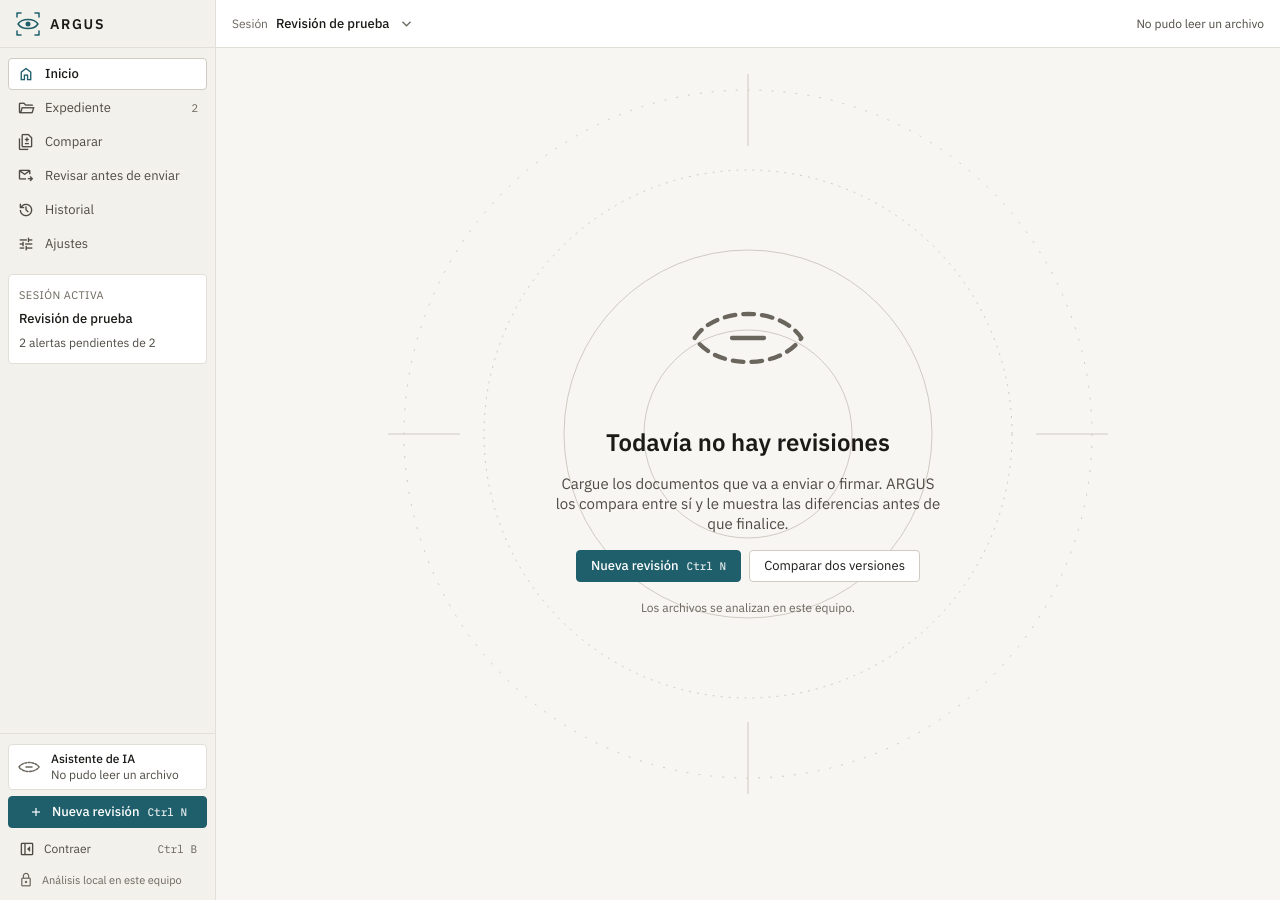
Test: Búsqueda global (Ctrl K) › Enter abre la alerta elegida y Escape cierra
Click the button "Expediente 2" at (108,108), box [8,92,207,124]
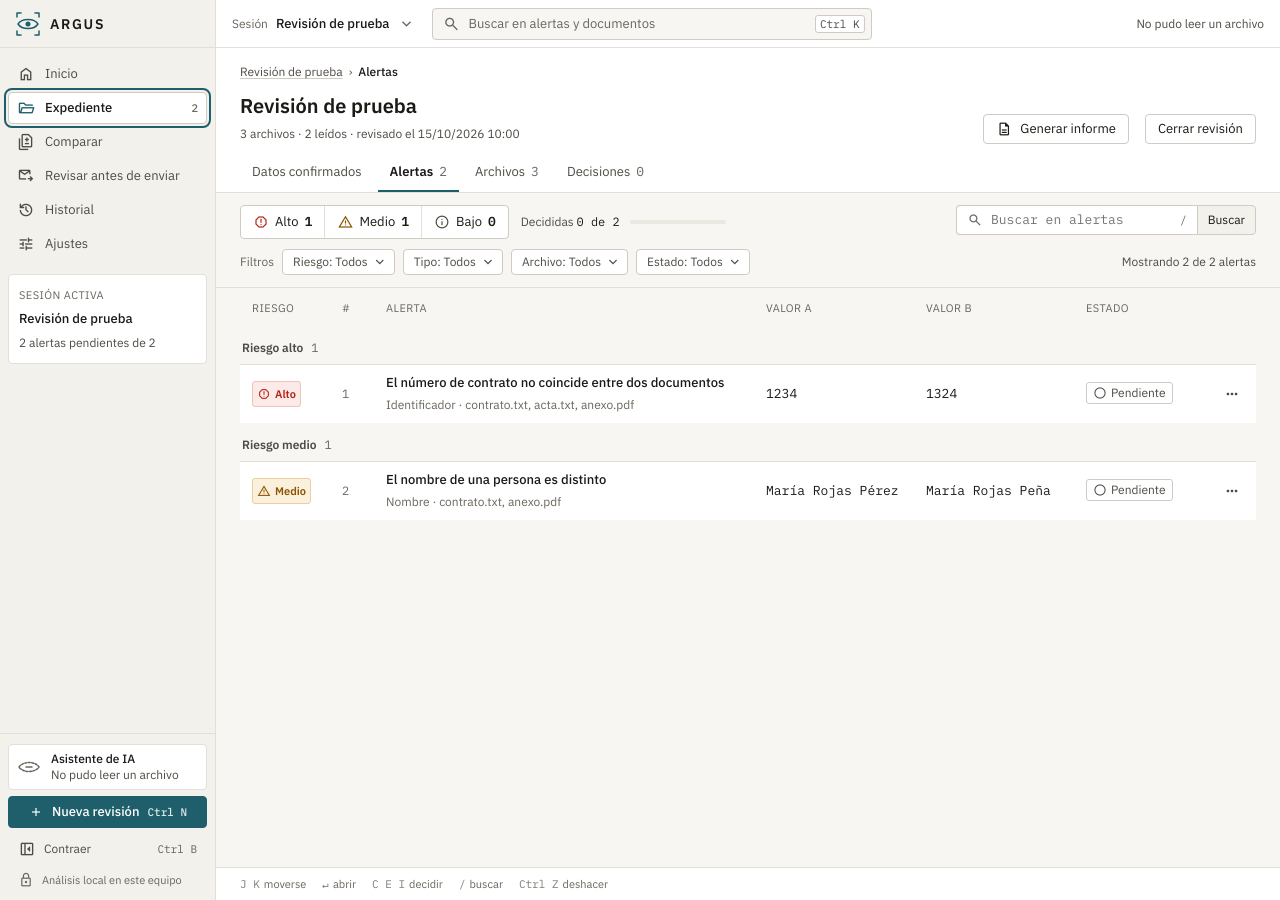
Click the button "Buscar en alertas y documentos Ctrl K" at (652,24), box [432,8,872,40]
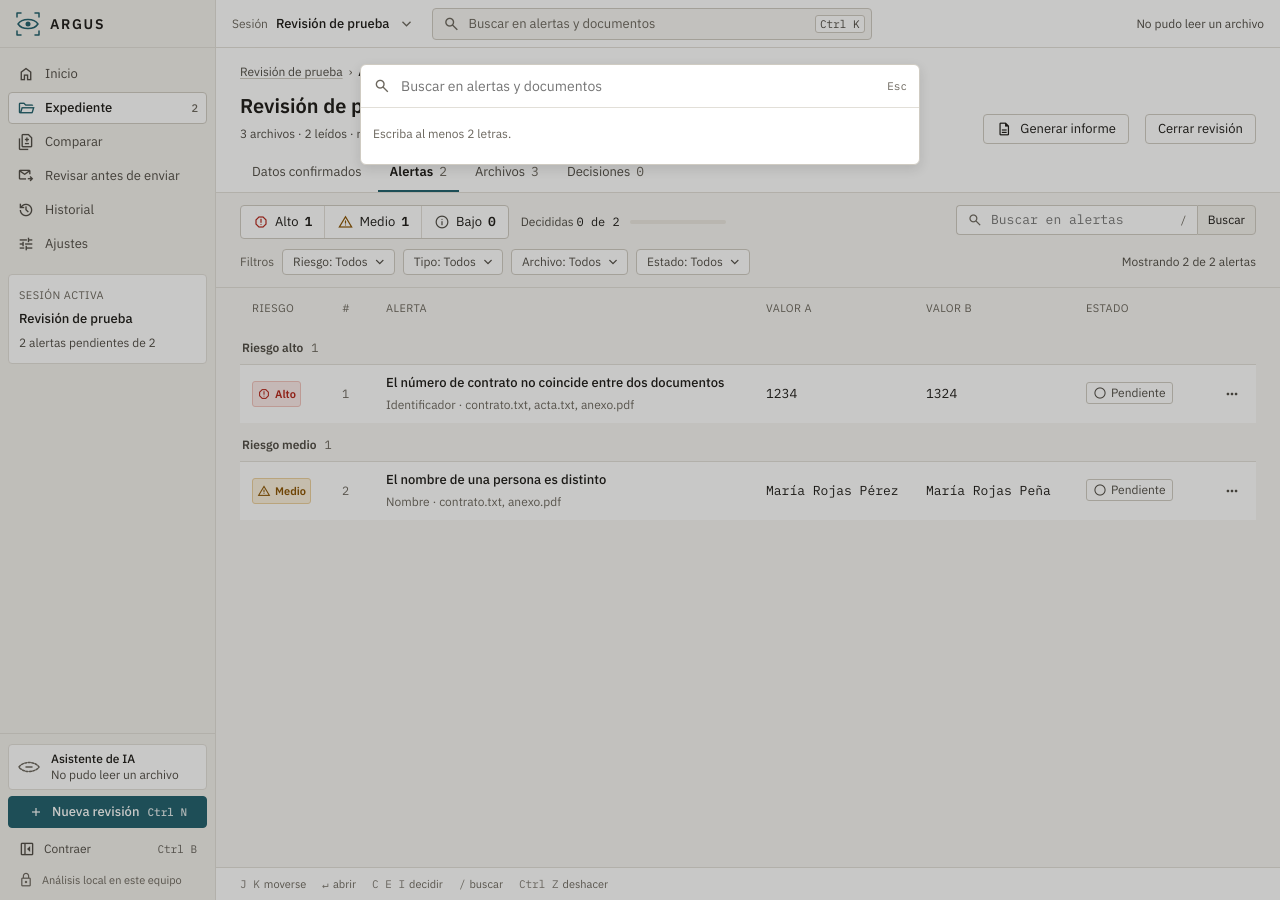
Type "peña" into the dropdown at (639,86), box [399,75,879,97]
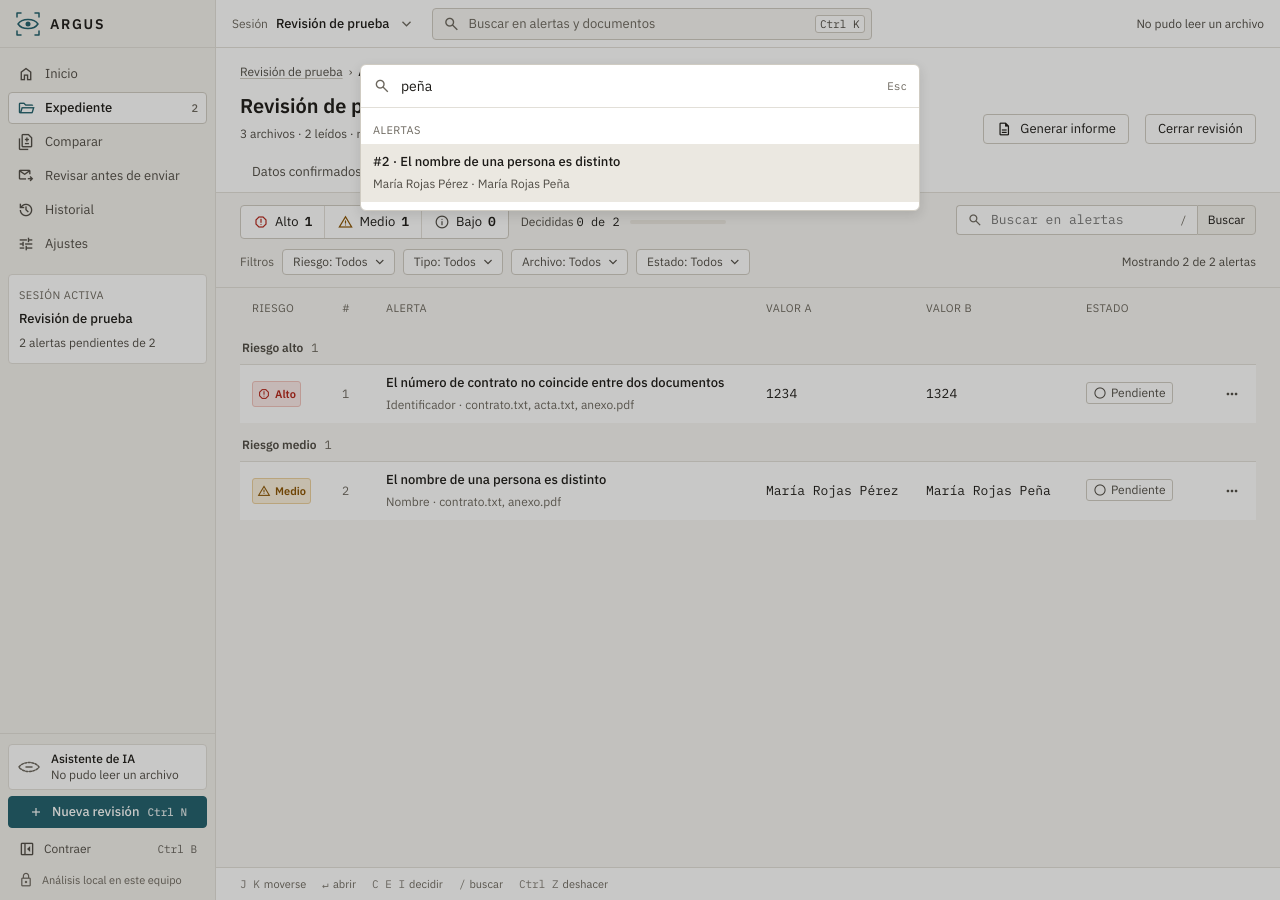
Expected: the element "Alertas" is shown, [361,112,919,202]
Press Enter
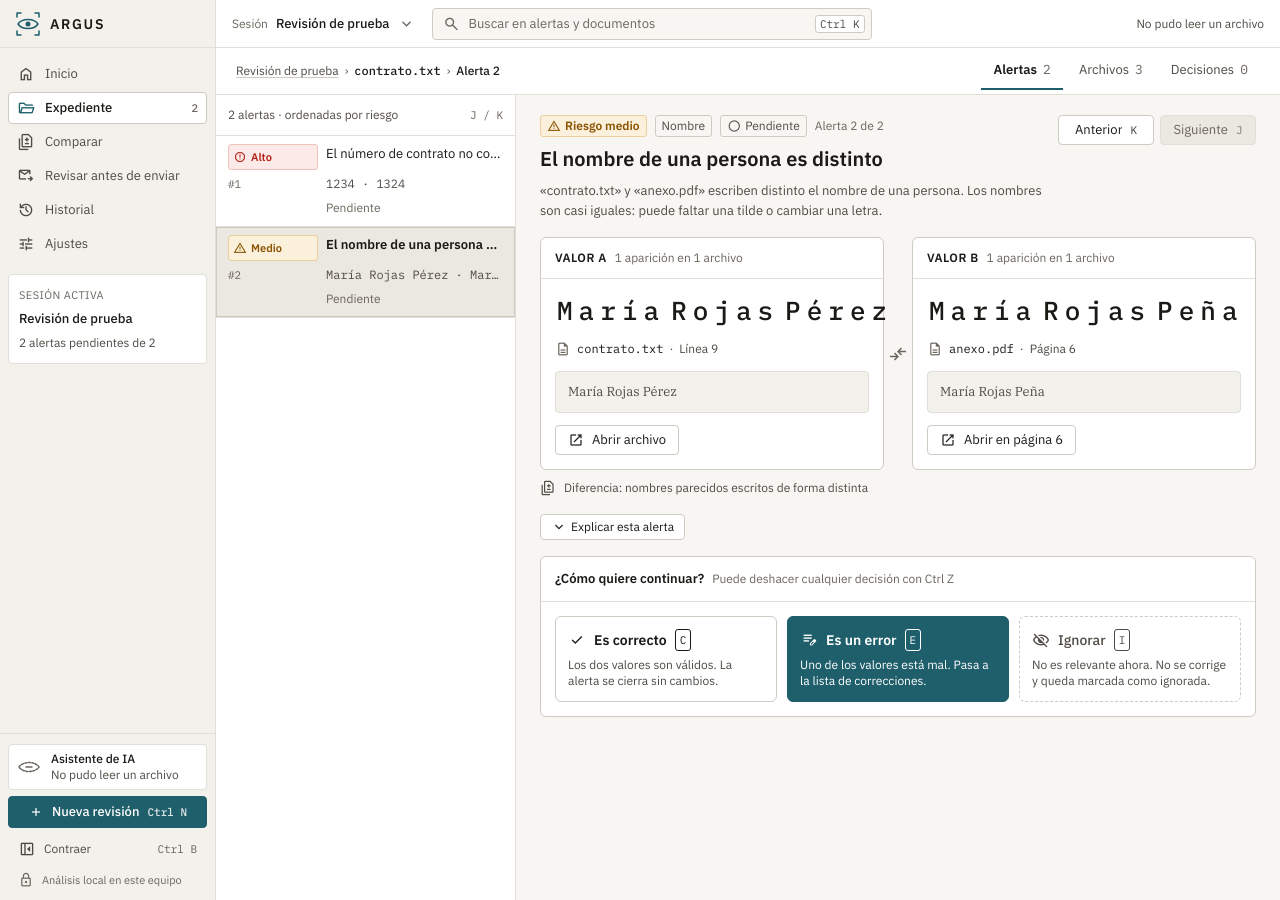
Expected: the heading "El nombre de una persona es distinto" is shown, [540,145,883,172]
Expected: the dialog is gone
Type keys "{Control>}k{/Control}"
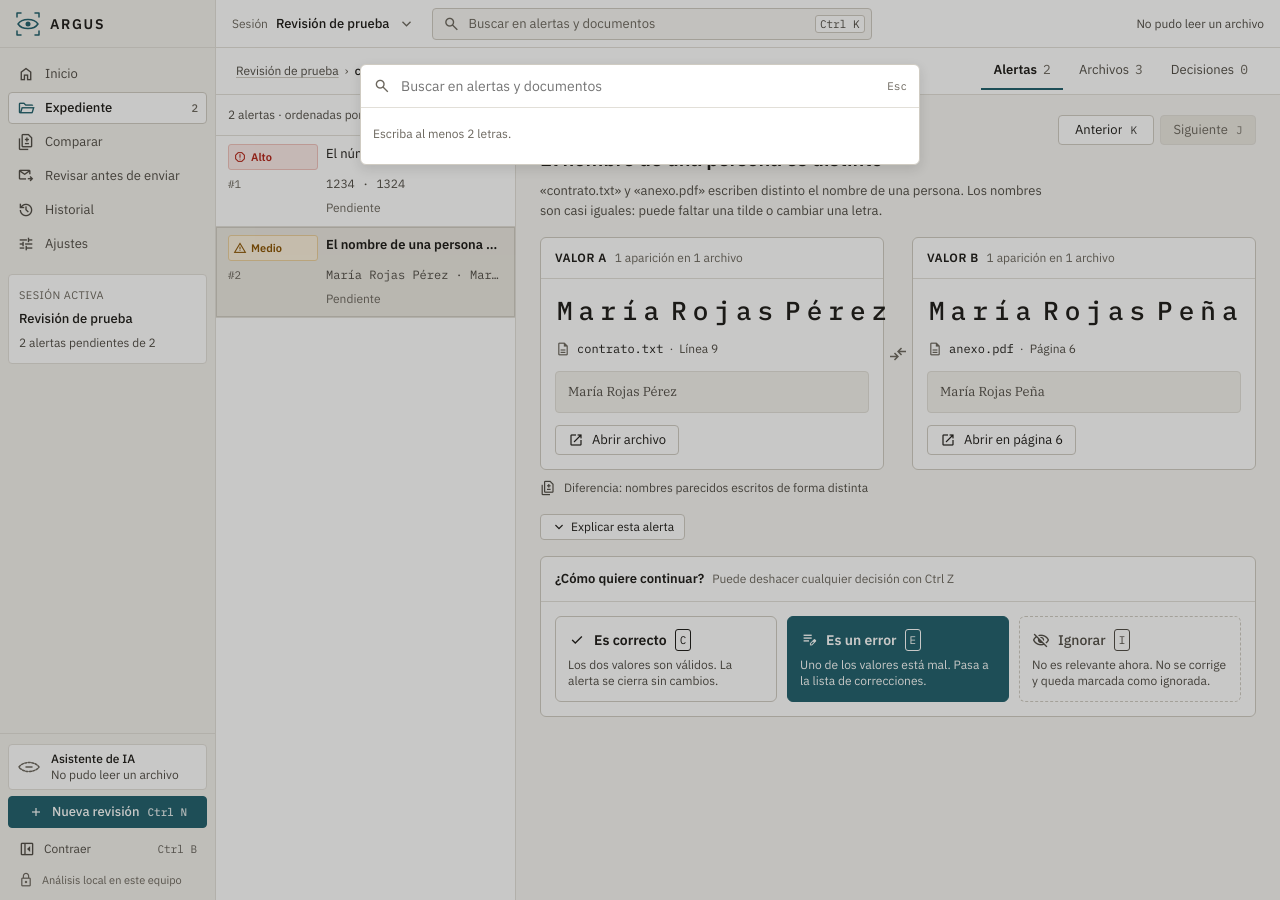
Press Escape
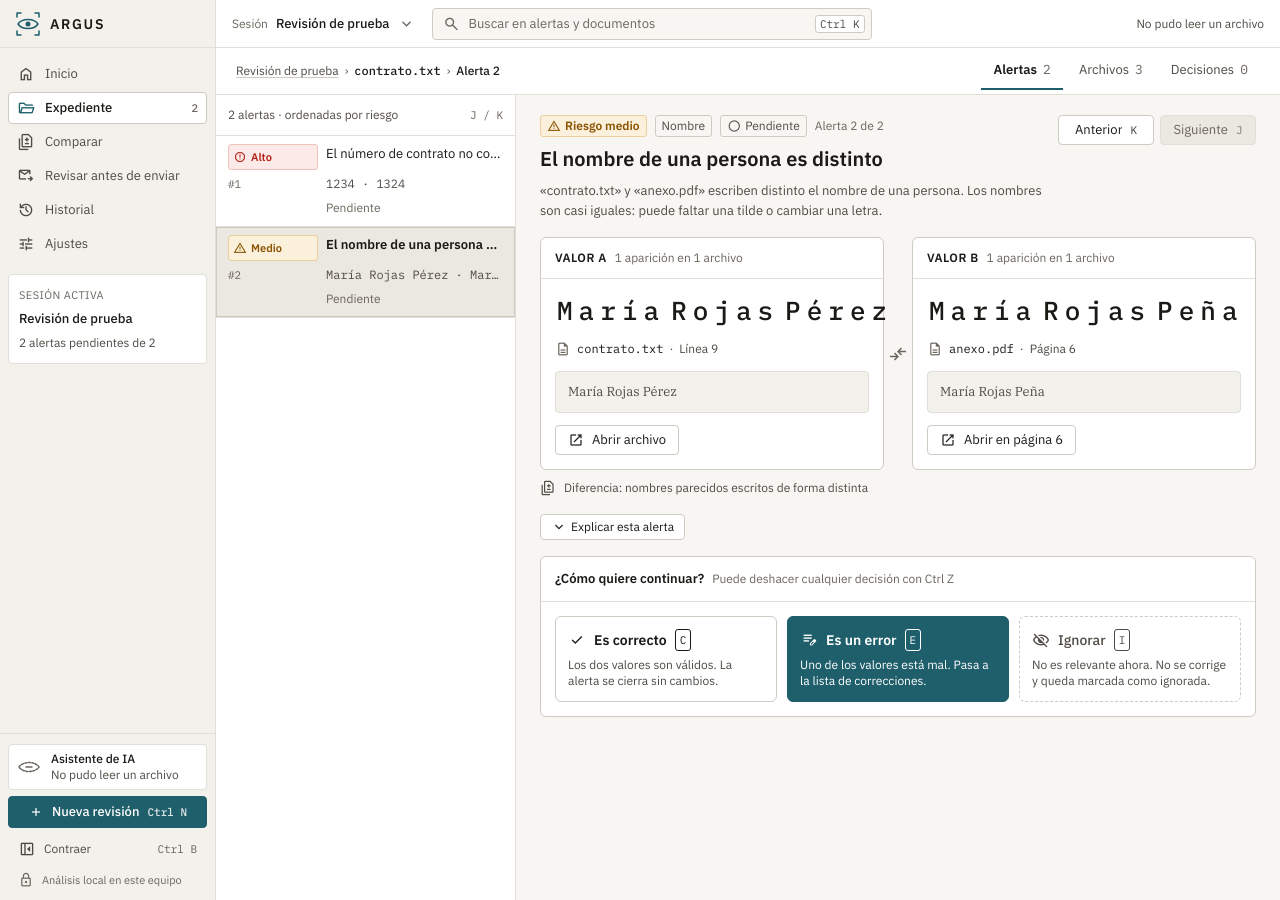
Expected: the dialog is gone
